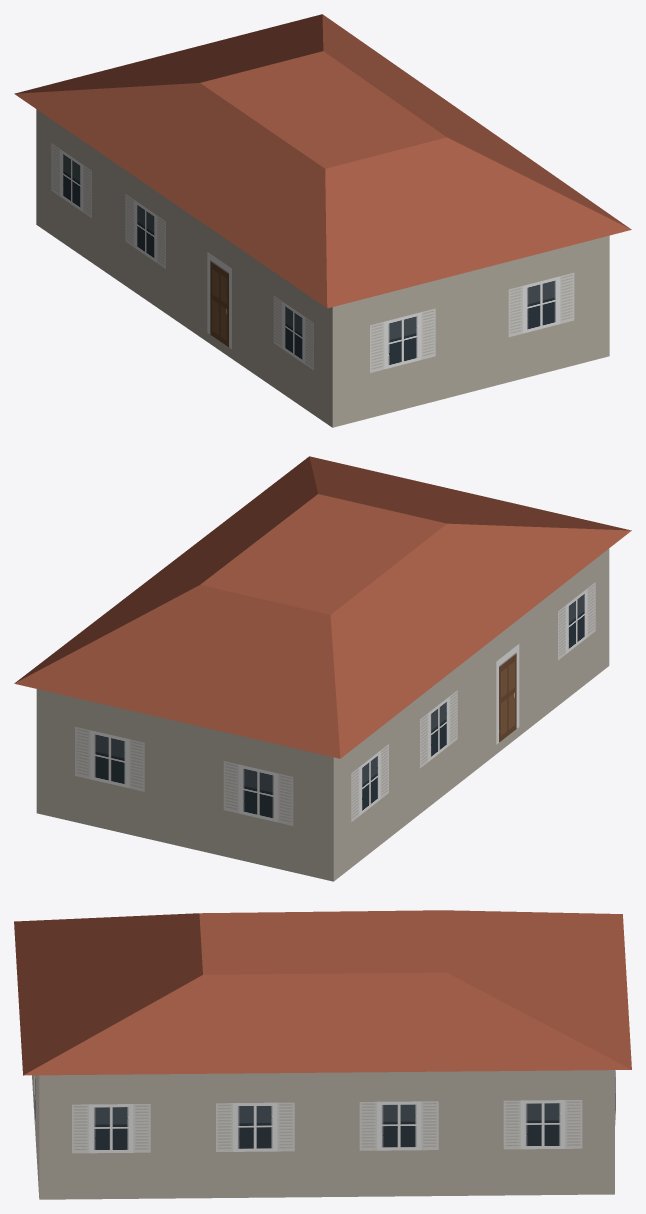
File: msb_sannicolas_20_24.glb
3 views of the same model, one above another, from view 1: azimuth 30°, elevation 25°; view 2: azimuth 150°, elevation 25°; view 3: azimuth 270°, elevation 25° (orthographic). The views are drawn at different scales.
Parts seen in each view (by area): view 1: msb_sannicolas_20_24_lod0; view 2: msb_sannicolas_20_24_lod0; view 3: msb_sannicolas_20_24_lod0.
Part boxes in pixels (box(x1,y1,x2,y2)): msb_sannicolas_20_24_lod0: box(14, 14, 631, 427); msb_sannicolas_20_24_lod0: box(14, 456, 631, 881); msb_sannicolas_20_24_lod0: box(14, 910, 631, 1199).
Size of what is drawn, in the model's own units: 9.22 by 4.9 by 14.92.
2 materials, 1 textured.
